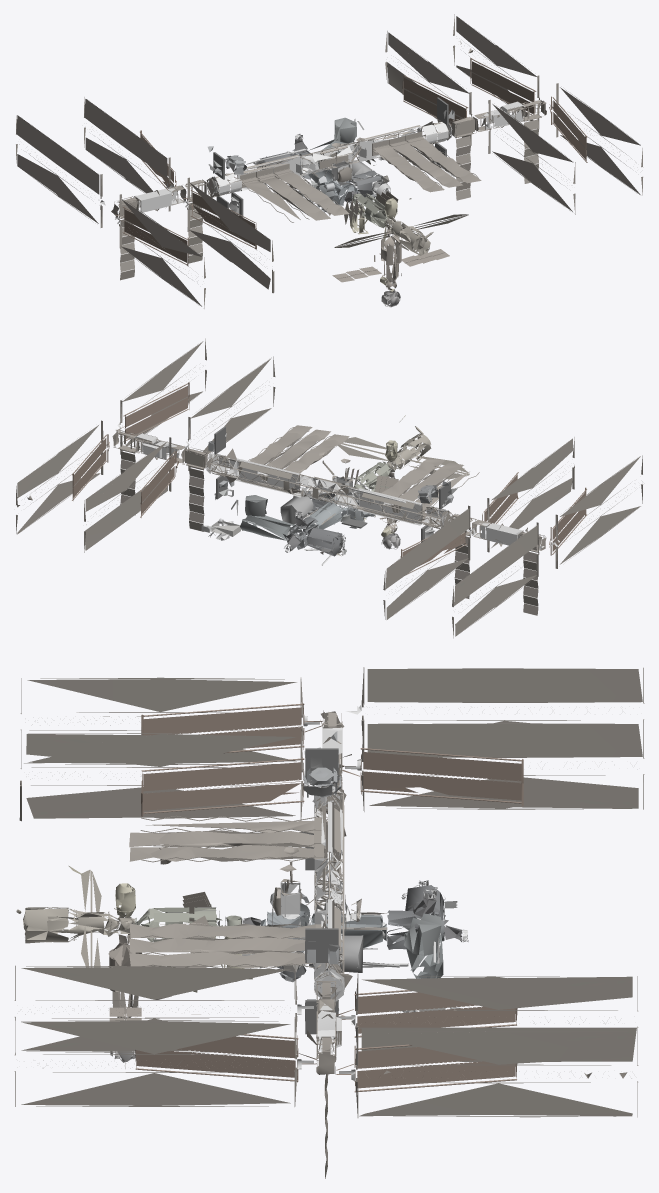
Rendered from iss_lod1.glb.
3 views of the same model, one above another, from view 1: azimuth 30°, elevation 25°; view 2: azimuth 150°, elevation 25°; view 3: azimuth 270°, elevation 25° (orthographic). The views are drawn at different scales.
Parts seen in each view (by area): view 1: iss_lod1; view 2: iss_lod1; view 3: iss_lod1.
Boxes of the visible parts, <box> form: iss_lod1: <box>16,14,643,308</box>; iss_lod1: <box>16,338,643,638</box>; iss_lod1: <box>14,667,644,1178</box>.
Bounding box in the file's own units: 108 × 33.19 × 80.42.
59 materials, 27 textured.
